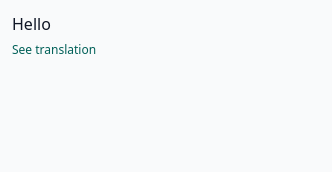
Test: translates on demand and toggles back without another request
Step 1. Click the button "See translation" → {"x": 54, "y": 50}, box [12,42,96,58]
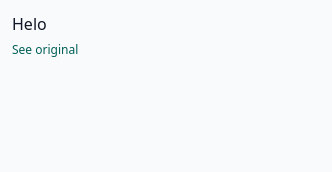
Now the text "Helo" has attribute lang="ms", box [12,13,47,35]
Step 2. Click the button "See original" → {"x": 45, "y": 50}, box [12,42,78,58]
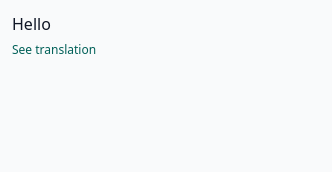
Now the text "Hello" is shown, box [12,13,51,35]
Step 3. Click the button "See translation" → {"x": 54, "y": 50}, box [12,42,96,58]
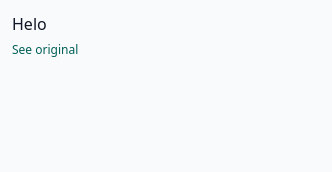
Now the text "Helo" is shown, box [12,13,47,35]
